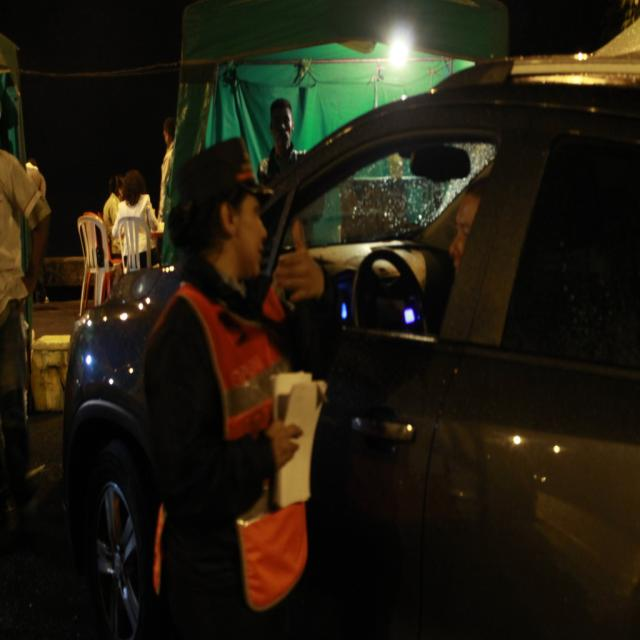car: (198, 7, 616, 622)
